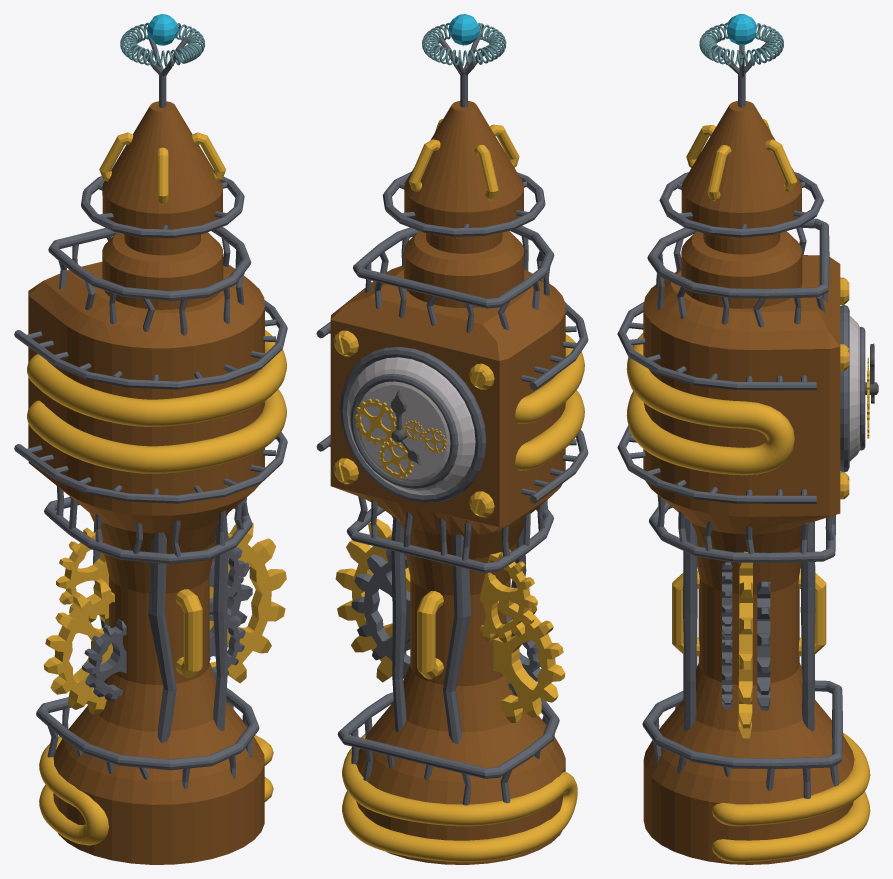
The model's file is Research tower-Animace2.fbx.
The picture shows the model from 3 angles, left to right: view 1: azimuth 30°, elevation 25°; view 2: azimuth 150°, elevation 25°; view 3: azimuth 270°, elevation 25°; orthographic projection.
Parts seen in each view (by area): view 1: Cylinder.001, Cylinder.002, BezierCurve.001, Cylinder.005, Cylinder.017, Cylinder.008, BezierCurve.004, Plane.003, Plane.001, Plane.005, Plane.006, Plane.002 (+14 smaller); view 2: Cylinder.001, Cylinder.002, BezierCurve.004, Cylinder.003, Cylinder.005, Cylinder.017, BezierCurve.001, Torus.001, Plane.003, Plane.001, Cylinder.013, Cylinder.019 (+16 smaller); view 3: Cylinder.001, Cylinder.002, BezierCurve.001, BezierCurve.004, Cylinder.005, Plane.003, Plane.001, Cylinder.008, Torus.006, Plane.002, Plane.005, Plane.006 (+11 smaller).
Boxes of the visible parts, left/top/right/bottom form: Cylinder.001: left=28, top=261, right=264, bottom=864; Cylinder.002: left=102, top=101, right=223, bottom=309; BezierCurve.001: left=27, top=330, right=286, bottom=473; Cylinder.005: left=93, top=514, right=228, bottom=743; Cylinder.017: left=44, top=579, right=114, bottom=714; Cylinder.008: left=209, top=522, right=286, bottom=683; BezierCurve.004: left=39, top=735, right=273, bottom=845; Plane.003: left=36, top=688, right=259, bottom=770; Plane.001: left=48, top=227, right=251, bottom=300; Plane.005: left=14, top=300, right=287, bottom=389; Plane.006: left=14, top=432, right=287, bottom=503; Plane.002: left=44, top=497, right=252, bottom=563; Cylinder.001: left=330, top=266, right=565, bottom=864; Cylinder.002: left=404, top=101, right=524, bottom=307; BezierCurve.004: left=342, top=734, right=577, bottom=862; Cylinder.003: left=347, top=357, right=475, bottom=495; Cylinder.005: left=391, top=516, right=526, bottom=743; Cylinder.017: left=493, top=600, right=565, bottom=722; BezierCurve.001: left=515, top=334, right=584, bottom=470; Torus.001: left=340, top=347, right=486, bottom=502; Plane.003: left=337, top=692, right=559, bottom=778; Plane.001: left=353, top=226, right=554, bottom=308; Cylinder.013: left=351, top=549, right=410, bottom=678; Cylinder.019: left=480, top=549, right=537, bottom=642; Cylinder.001: left=643, top=255, right=854, bottom=864; Cylinder.002: left=681, top=101, right=802, bottom=308; BezierCurve.001: left=626, top=333, right=794, bottom=475; BezierCurve.004: left=711, top=733, right=870, bottom=862; Cylinder.005: left=683, top=518, right=815, bottom=731; Plane.003: left=642, top=680, right=842, bottom=769; Plane.001: left=647, top=218, right=829, bottom=298; Cylinder.008: left=738, top=551, right=752, bottom=738; Torus.006: left=659, top=172, right=823, bottom=237; Plane.002: left=649, top=502, right=835, bottom=562; Plane.005: left=617, top=302, right=816, bottom=390; Plane.006: left=617, top=425, right=816, bottom=503.
Bounding box in the file's own units: 989 × 3231 × 950.
